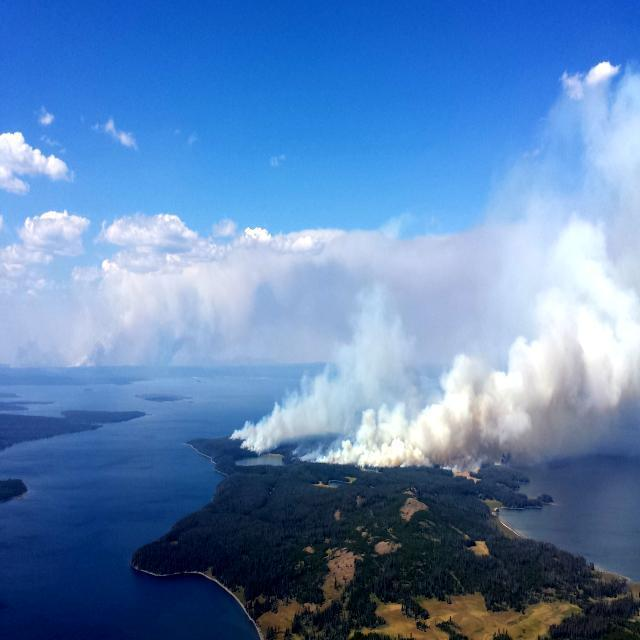Smoke: (243, 288, 640, 478)
